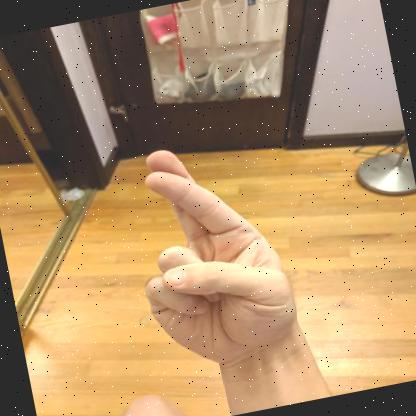R: (144, 150, 310, 366)
